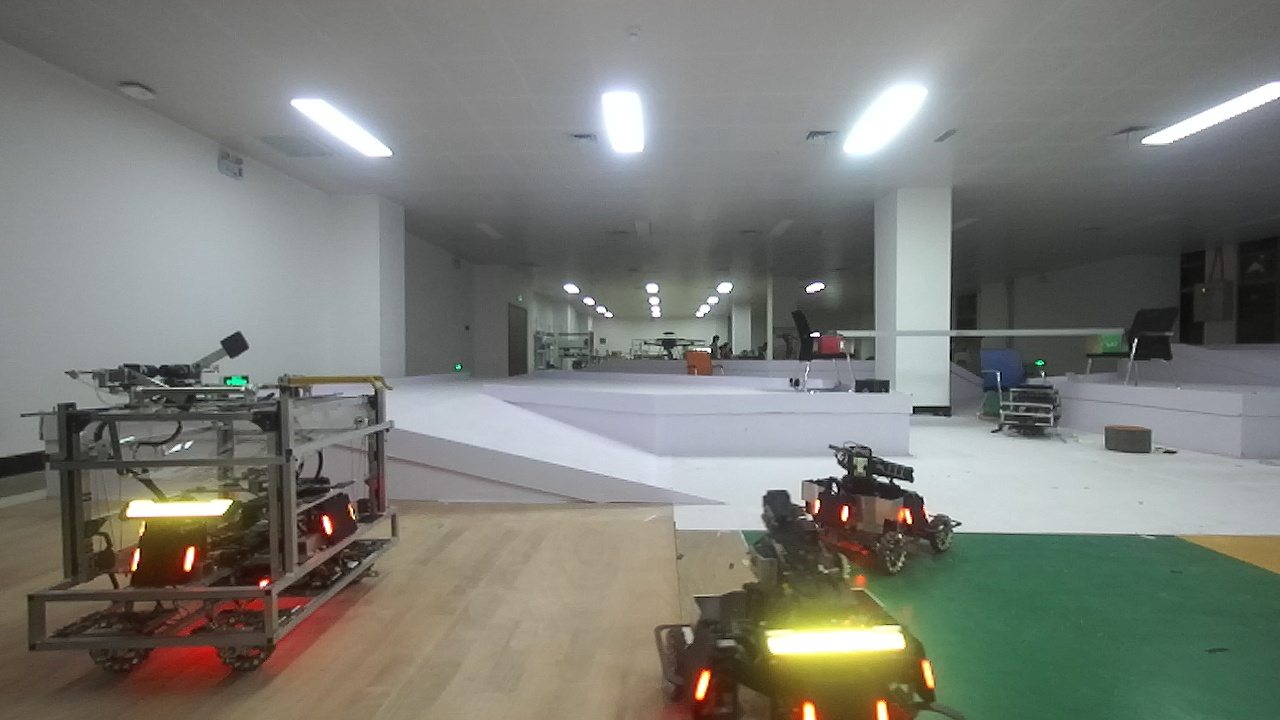car: (20, 348, 411, 679), (629, 567, 960, 719), (764, 422, 973, 574)
